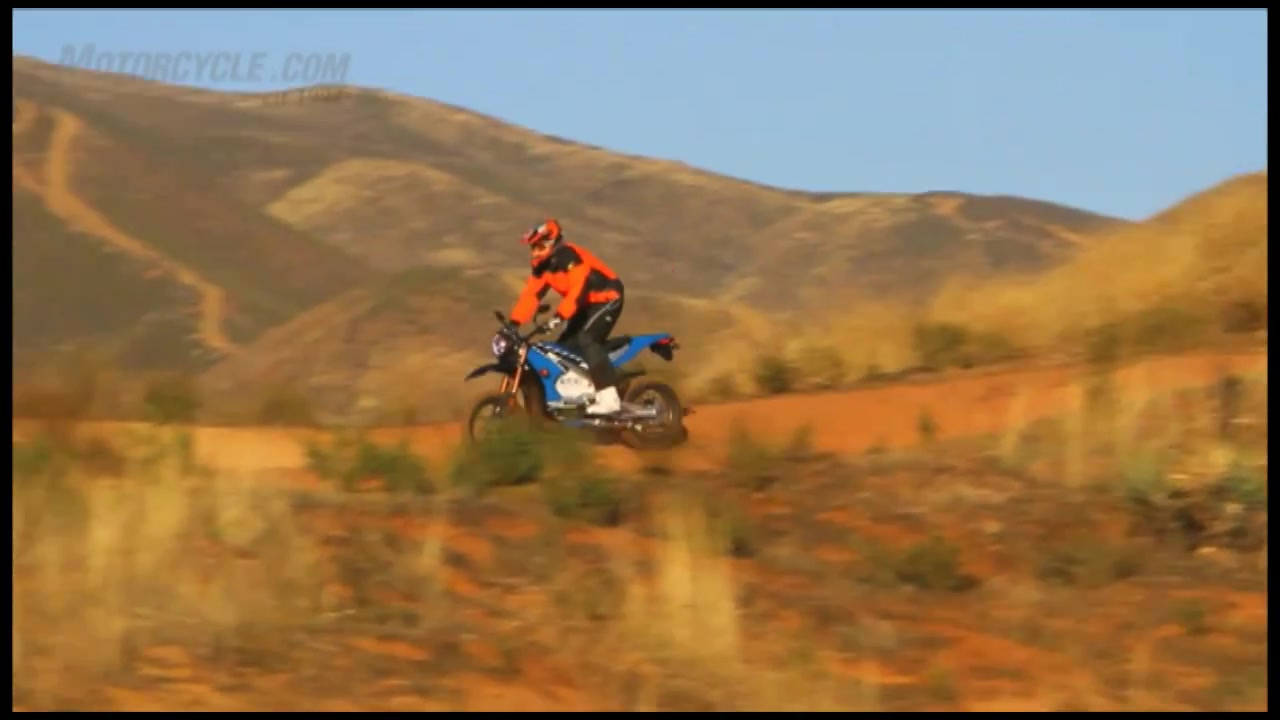motorbike: (465, 313, 689, 460)
